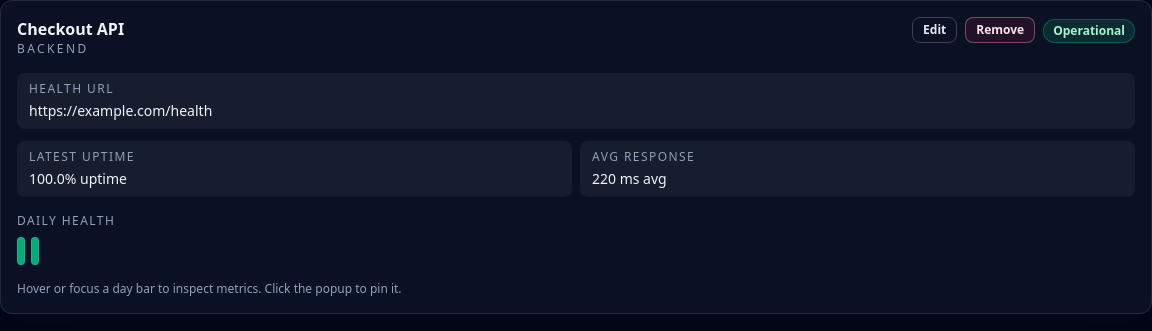
ComponentStatusCardComponent › opens popup only after hover delay
The width and height of the screenshot is (1152, 331).
Hover over the button named "Feb 17, 2026 - Operational": (21, 251) [17, 237, 25, 265]
Wait 200 ms
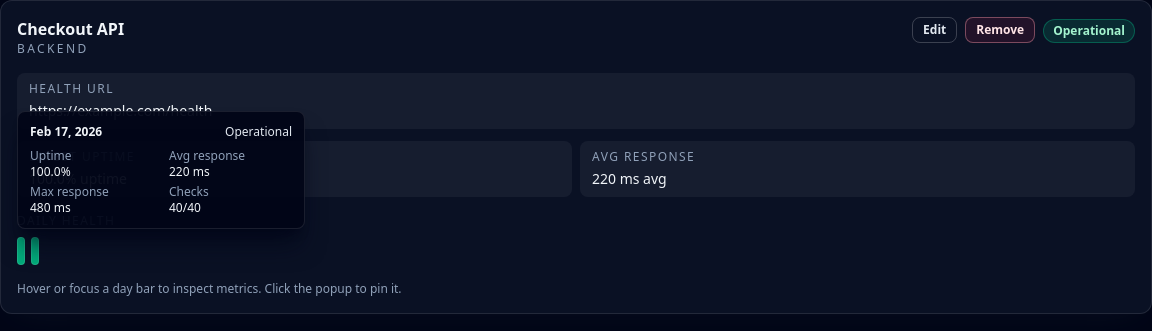
Result: the message is shown at [17, 111, 305, 229]
Result: the text "Feb 17, 2026" is shown at [30, 124, 102, 140]
